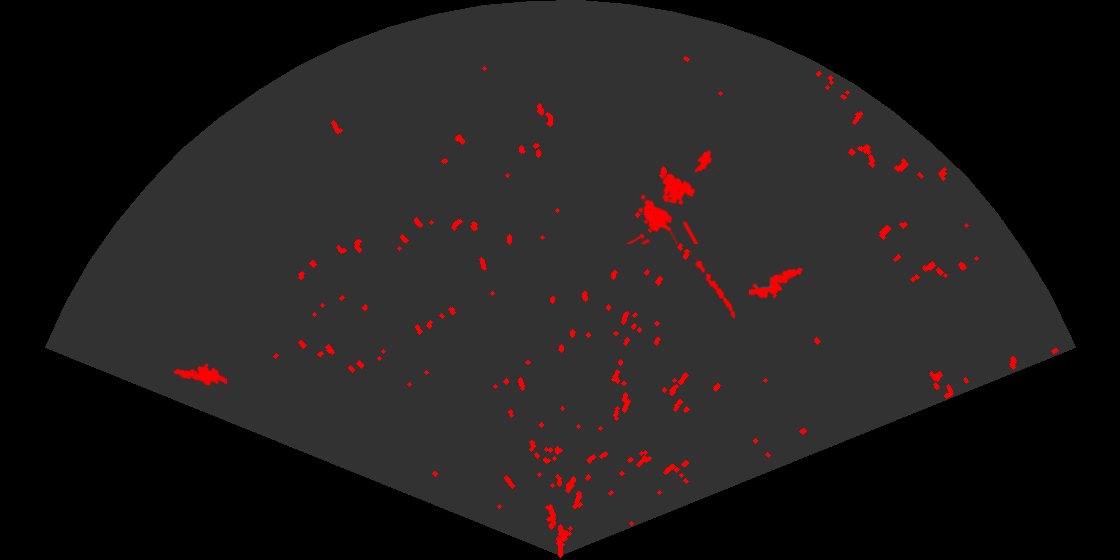AUV: (693, 148, 718, 177)
cage: (624, 172, 700, 244)
chain: (689, 252, 740, 322)
frogman: (749, 266, 804, 300), (171, 362, 227, 388)
